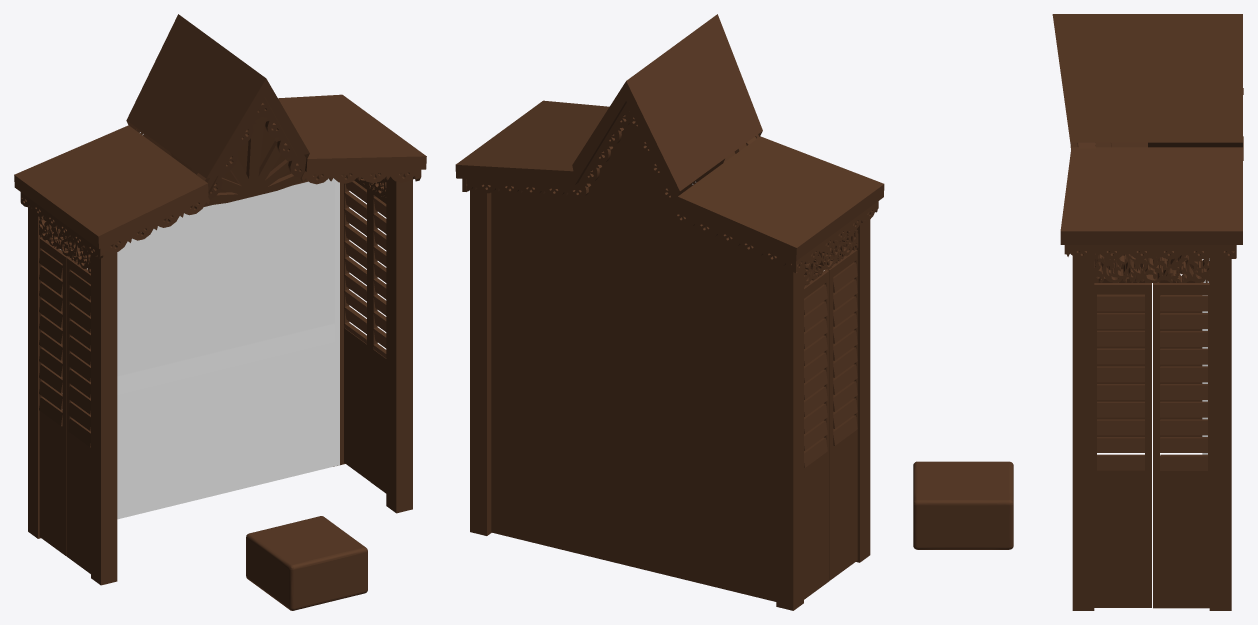
File: rumah_quest_-_projection_mapping_room.fbx
3 views of the same model, side by side, from view 1: azimuth 30°, elevation 25°; view 2: azimuth 150°, elevation 25°; view 3: azimuth 270°, elevation 25° (orthographic). The views are drawn at different scales.
Parts seen in each view (by area): view 1: node_db500b20_58da_43b6_9723_5987114ce814_mesh0, node_da5040f8_b049_4ce4_bdc5_63c083d2ba62_mesh0, node_24da2e40_1718_427a_9ca8_9ed1798500d0_mesh0, node_032070a9_dd18_44d6_9b1e_250c97381e9d_mesh0, node_5dcf9ed1_d6e9_48b0_965e_5bb9314afcea_mesh0, node_1e93fc17_1b3a_4da0_879b_99afccb500cd_mesh0, node_949571c7_29b3_4c60_b54a_c3d36ab3bd13_mesh0, node_acb8924c_2e89_4852_bda7_1de9e6101e77_mesh0; view 2: node_24da2e40_1718_427a_9ca8_9ed1798500d0_mesh0, node_da5040f8_b049_4ce4_bdc5_63c083d2ba62_mesh0, node_1e93fc17_1b3a_4da0_879b_99afccb500cd_mesh0, node_5dcf9ed1_d6e9_48b0_965e_5bb9314afcea_mesh0, node_949571c7_29b3_4c60_b54a_c3d36ab3bd13_mesh0, node_acb8924c_2e89_4852_bda7_1de9e6101e77_mesh0; view 3: node_da5040f8_b049_4ce4_bdc5_63c083d2ba62_mesh0, node_24da2e40_1718_427a_9ca8_9ed1798500d0_mesh0, node_5dcf9ed1_d6e9_48b0_965e_5bb9314afcea_mesh0, node_1e93fc17_1b3a_4da0_879b_99afccb500cd_mesh0, node_5cb92c9a_babf_424c_9946_580daf25c604_mesh0, node_949571c7_29b3_4c60_b54a_c3d36ab3bd13_mesh0.
Part boxes in pixels (x1,y1,x2,y2): node_db500b20_58da_43b6_9723_5987114ce814_mesh0: (60, 178, 334, 394); node_da5040f8_b049_4ce4_bdc5_63c083d2ba62_mesh0: (14, 14, 412, 513); node_24da2e40_1718_427a_9ca8_9ed1798500d0_mesh0: (39, 129, 386, 610); node_032070a9_dd18_44d6_9b1e_250c97381e9d_mesh0: (117, 132, 339, 519); node_5dcf9ed1_d6e9_48b0_965e_5bb9314afcea_mesh0: (21, 46, 426, 248); node_1e93fc17_1b3a_4da0_879b_99afccb500cd_mesh0: (28, 169, 421, 585); node_949571c7_29b3_4c60_b54a_c3d36ab3bd13_mesh0: (126, 117, 420, 205); node_acb8924c_2e89_4852_bda7_1de9e6101e77_mesh0: (39, 216, 90, 273); node_24da2e40_1718_427a_9ca8_9ed1798500d0_mesh0: (491, 103, 857, 601); node_da5040f8_b049_4ce4_bdc5_63c083d2ba62_mesh0: (455, 48, 877, 272); node_1e93fc17_1b3a_4da0_879b_99afccb500cd_mesh0: (470, 188, 878, 610); node_5dcf9ed1_d6e9_48b0_965e_5bb9314afcea_mesh0: (501, 14, 884, 272); node_949571c7_29b3_4c60_b54a_c3d36ab3bd13_mesh0: (462, 131, 762, 195); node_acb8924c_2e89_4852_bda7_1de9e6101e77_mesh0: (804, 229, 858, 287); node_da5040f8_b049_4ce4_bdc5_63c083d2ba62_mesh0: (1072, 14, 1242, 610); node_24da2e40_1718_427a_9ca8_9ed1798500d0_mesh0: (913, 254, 1202, 607); node_5dcf9ed1_d6e9_48b0_965e_5bb9314afcea_mesh0: (1052, 14, 1155, 244); node_1e93fc17_1b3a_4da0_879b_99afccb500cd_mesh0: (1064, 245, 1231, 610); node_5cb92c9a_babf_424c_9946_580daf25c604_mesh0: (1094, 251, 1209, 282); node_949571c7_29b3_4c60_b54a_c3d36ab3bd13_mesh0: (1066, 88, 1243, 259).
Bounding box in the file's own units: 26555 × 36908 × 21398.
3 materials, 1 textured.
